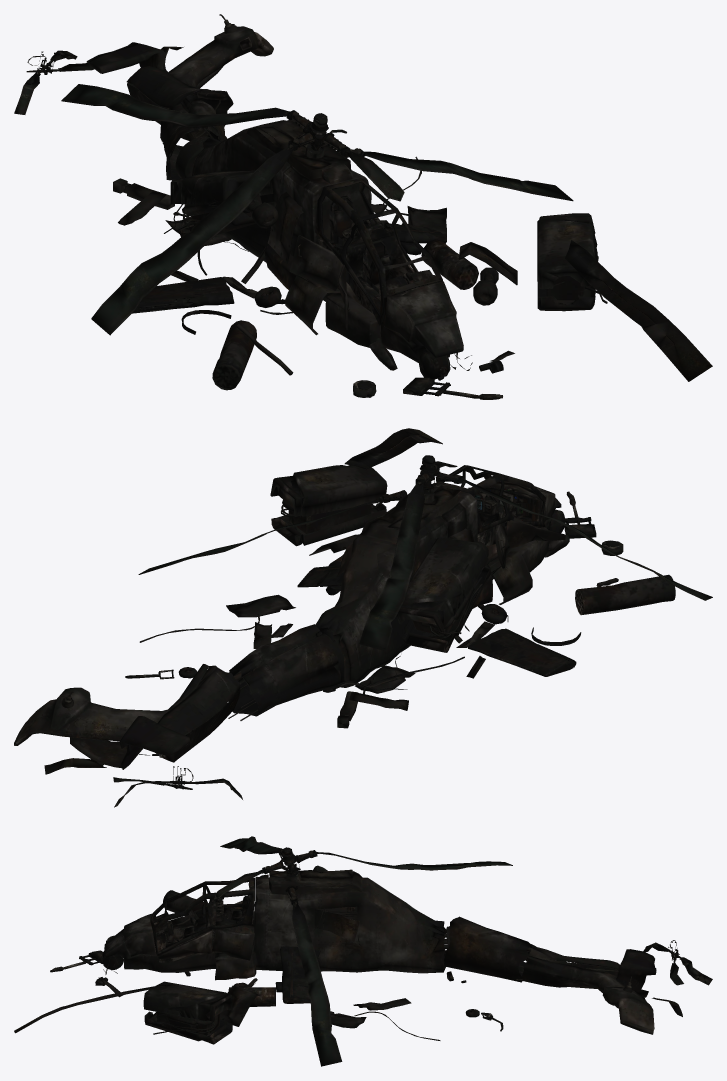
Rendered from heli_wreck.glb.
3 views of the same model, one above another, from view 1: azimuth 30°, elevation 25°; view 2: azimuth 150°, elevation 25°; view 3: azimuth 270°, elevation 25° (orthographic). The views are drawn at different scales.
Visible parts, largest first — view 1: heli_wreck_2, heli_wreck_0, heli_wreck_1; view 2: heli_wreck_0, heli_wreck_2, heli_wreck_1; view 3: heli_wreck_0, heli_wreck_2, heli_wreck_1.
Part boxes in pixels (left/top/right/bottom): heli_wreck_2: left=14, top=14, right=712, bottom=381; heli_wreck_0: left=126, top=26, right=597, bottom=370; heli_wreck_1: left=132, top=110, right=503, bottom=399; heli_wreck_0: left=14, top=465, right=569, bottom=762; heli_wreck_2: left=44, top=428, right=712, bottom=807; heli_wreck_1: left=125, top=455, right=675, bottom=757; heli_wreck_0: left=104, top=865, right=654, bottom=1044; heli_wreck_2: left=14, top=836, right=712, bottom=1066; heli_wreck_1: left=50, top=847, right=503, bottom=1031.
Size of the model in its own units: 9.41 by 2.87 by 14.8.
3 materials, 3 textured.
